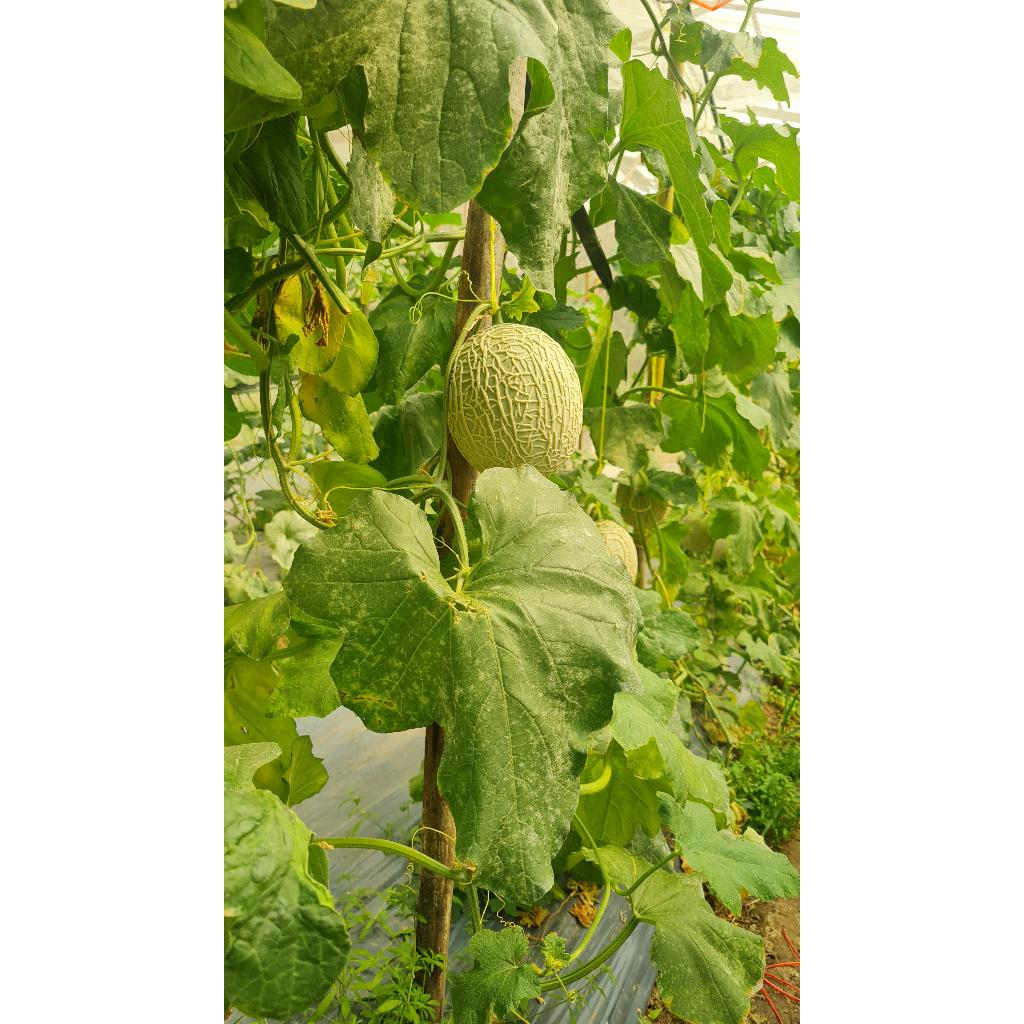melon: (448, 324, 582, 476)
